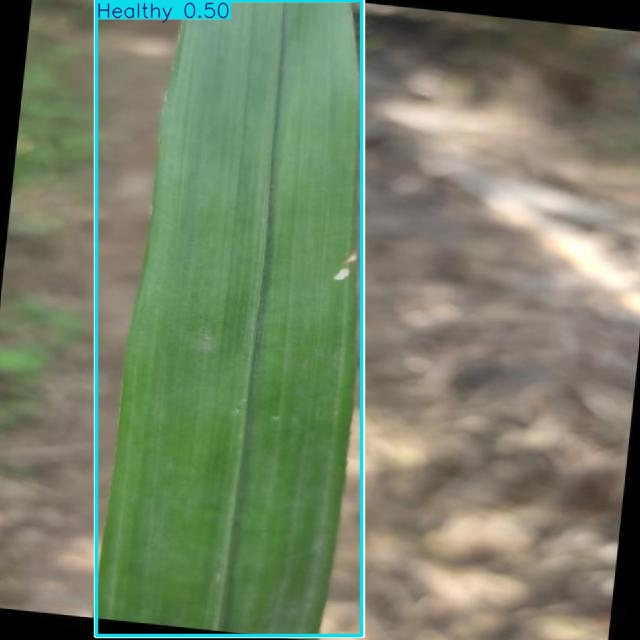Healthy: (96, 0, 362, 636)
Kalium: (96, 0, 364, 636)
